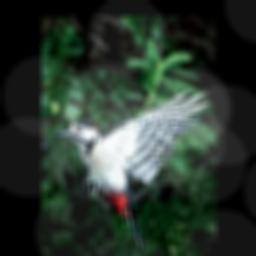Woodpecker: (53, 88, 208, 247)
